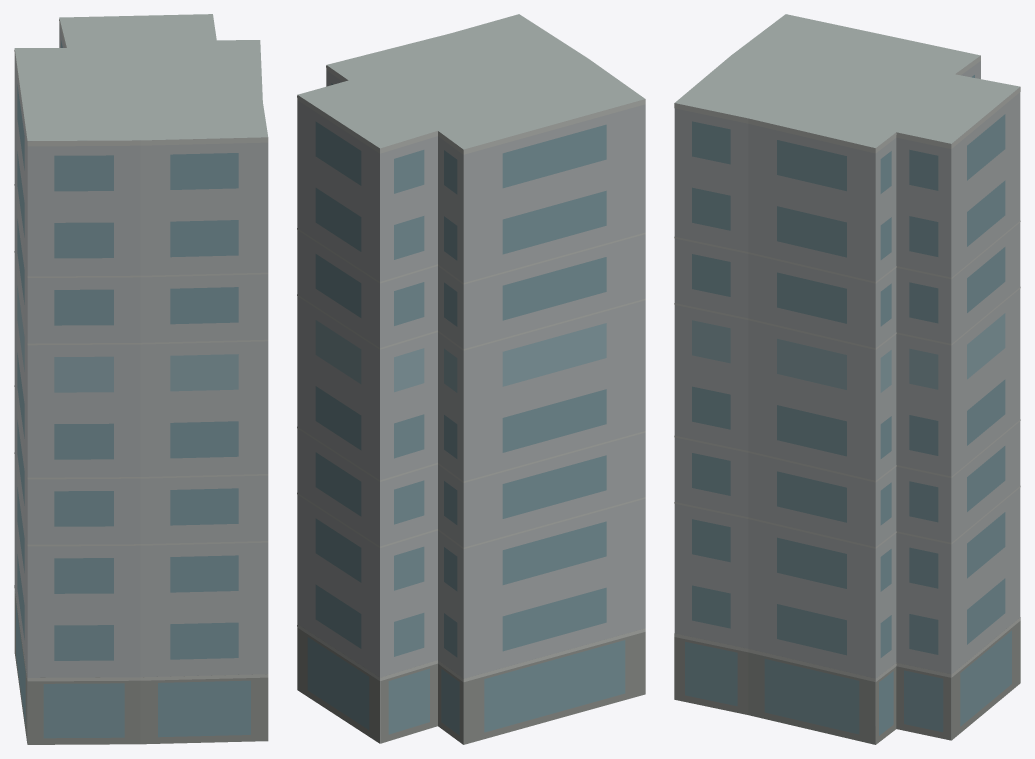
File: survey-upis-32631114.glb
The picture shows the model from 3 angles, left to right: view 1: azimuth 30°, elevation 25°; view 2: azimuth 150°, elevation 25°; view 3: azimuth 270°, elevation 25°; orthographic projection.
Parts seen in each view (by area): view 1: survey-upis-32631114.tmp; view 2: survey-upis-32631114.tmp; view 3: survey-upis-32631114.tmp.
Boxes of the visible parts, x1=… form: survey-upis-32631114.tmp: x1=14, y1=14, x2=268, y2=744; survey-upis-32631114.tmp: x1=297, y1=14, x2=645, y2=744; survey-upis-32631114.tmp: x1=674, y1=14, x2=1020, y2=744.
Size of the model in its own units: 13.31 by 27.55 by 14.5.
